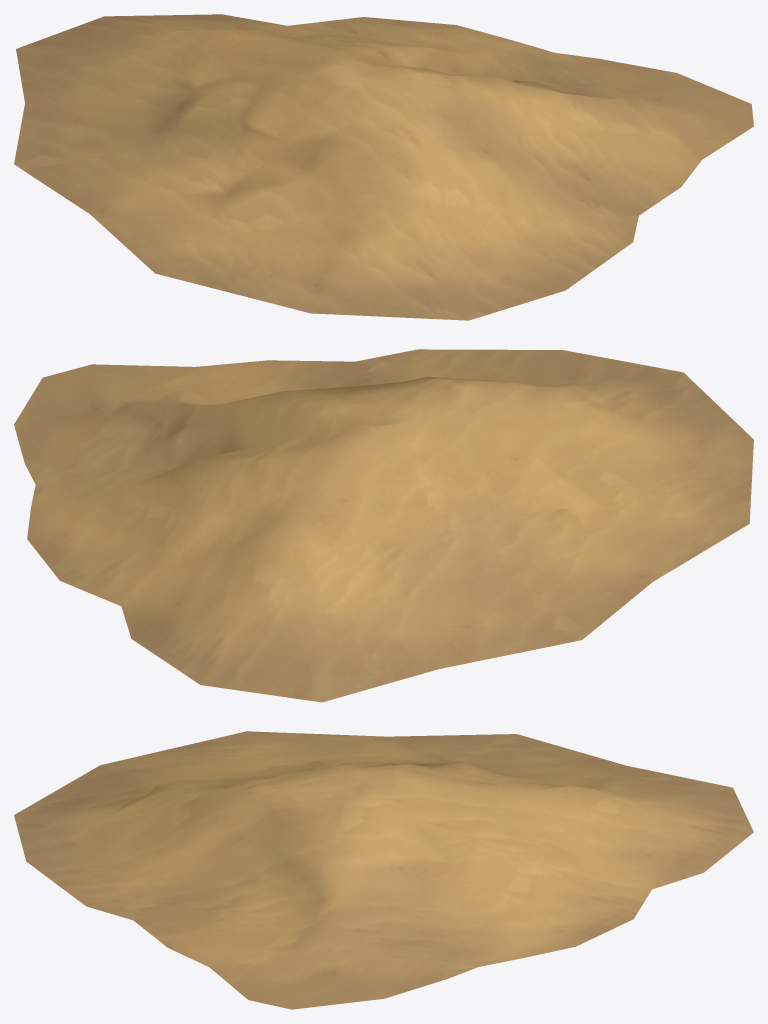
File: Area_05_11.fbx
3 renders of one model, top to bottom at view 1: azimuth 30°, elevation 25°; view 2: azimuth 150°, elevation 25°; view 3: azimuth 270°, elevation 25°, orthographic. The views are drawn at different scales.
Visible parts, largest first — view 1: Area_05_11; view 2: Area_05_11; view 3: Area_05_11.
Boxes of the visible parts, left/top/right/bottom form: Area_05_11: left=14, top=14, right=753, bottom=320; Area_05_11: left=14, top=349, right=753, bottom=702; Area_05_11: left=14, top=731, right=753, bottom=1009.
Size of the model in its own units: 5297 by 678 by 5951.
1 material, 1 textured.
